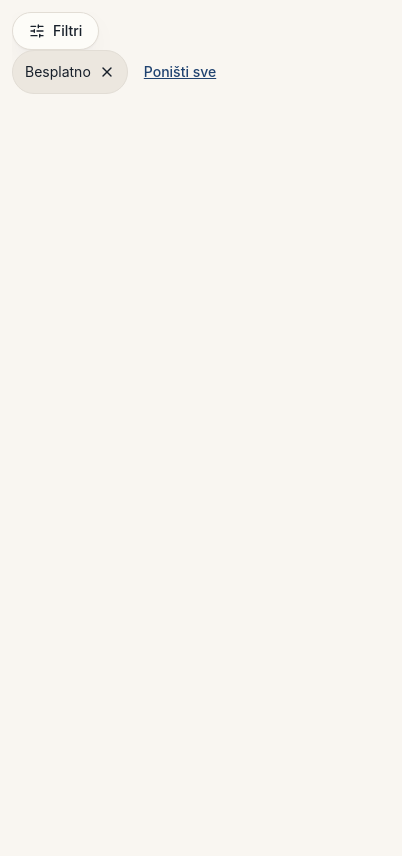
Scenario: opens and closes mobile filters without losing active state
Later steps or results of the test are not shown.
Click the button "Filtri": (56, 31) x1=12 y1=12 x2=99 y2=50
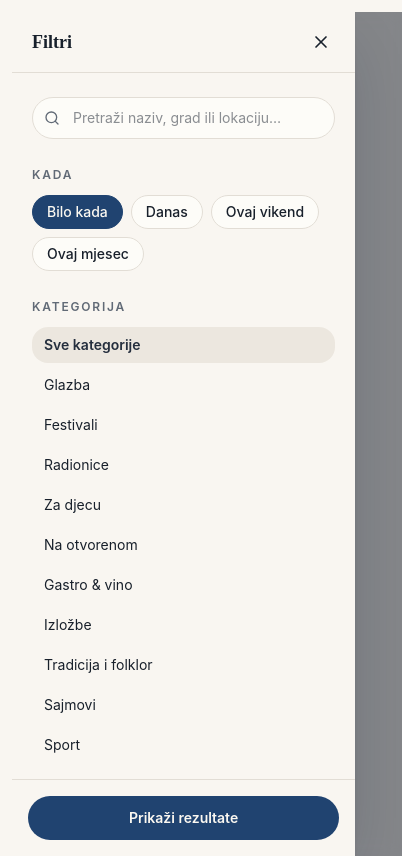
Expected: the button named "Zatvori filtre" is shown
